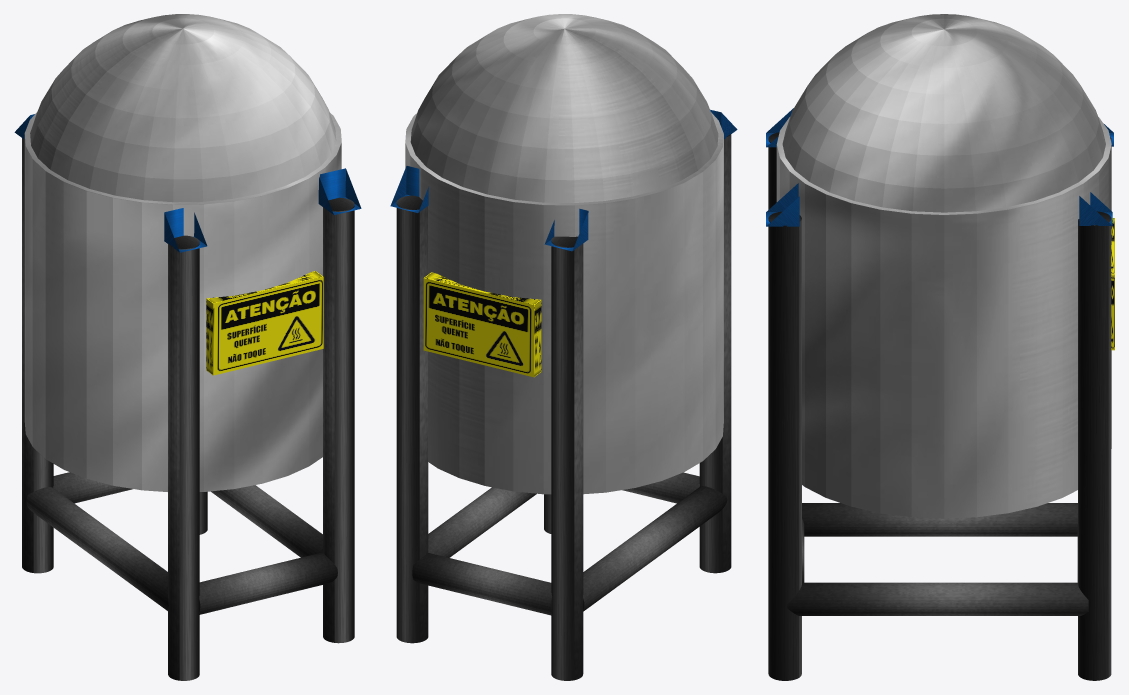
File: reatorTermicoGemeo.glb
3 renders of one model, left to right at view 1: azimuth 30°, elevation 25°; view 2: azimuth 150°, elevation 25°; view 3: azimuth 270°, elevation 25°, orthographic. The views are drawn at different scales.
Visible parts, largest first — view 1: Cilindro, Cilindro.004, Cilindro.001, Cubo.005, Cilindro.006, Cilindro.008, Cilindro.003, Cilindro.005, Cilindro.007, Cubo.003, Cubo.002; view 2: Cilindro, Cilindro.003, Cilindro.002, Cubo.004, Cilindro.004, Cilindro.006, Cilindro.007, Cilindro.005, Cilindro.008, Cubo.001, Cubo; view 3: Cilindro, Cilindro.002, Cilindro.001, Cilindro.005, Cilindro.006, Cubo.003, Cubo.001, Cilindro.004.
Boxes of the visible parts, <box> form: Cilindro: <box>24,14,341,491</box>; Cilindro.004: <box>168,235,199,680</box>; Cilindro.001: <box>323,197,354,643</box>; Cubo.005: <box>206,271,323,375</box>; Cilindro.006: <box>26,487,168,610</box>; Cilindro.008: <box>199,552,337,614</box>; Cilindro.003: <box>22,138,53,573</box>; Cilindro.005: <box>210,485,322,557</box>; Cilindro.007: <box>53,472,132,503</box>; Cubo.003: <box>318,168,361,214</box>; Cubo.002: <box>164,208,207,252</box>; Cilindro: <box>405,14,723,494</box>; Cilindro.003: <box>551,236,583,680</box>; Cilindro.002: <box>396,195,428,643</box>; Cubo.004: <box>423,272,541,377</box>; Cilindro.004: <box>699,134,731,573</box>; Cilindro.006: <box>583,486,727,611</box>; Cilindro.007: <box>412,553,552,615</box>; Cilindro.005: <box>428,487,536,557</box>; Cilindro.008: <box>622,472,699,503</box>; Cubo.001: <box>390,166,428,212</box>; Cubo: <box>544,208,588,251</box>; Cilindro: <box>776,14,1111,518</box>; Cilindro.002: <box>1078,211,1111,680</box>; Cilindro.001: <box>768,211,801,680</box>; Cilindro.005: <box>787,582,1088,615</box>; Cilindro.006: <box>802,503,1077,536</box>; Cubo.003: <box>766,183,799,226</box>; Cubo.001: <box>1079,192,1112,225</box>; Cilindro.004: <box>768,132,779,209</box>.
Size of the model in its own units: 2 by 3.97 by 2.08.
Materials: 16 (16 with a texture image).
